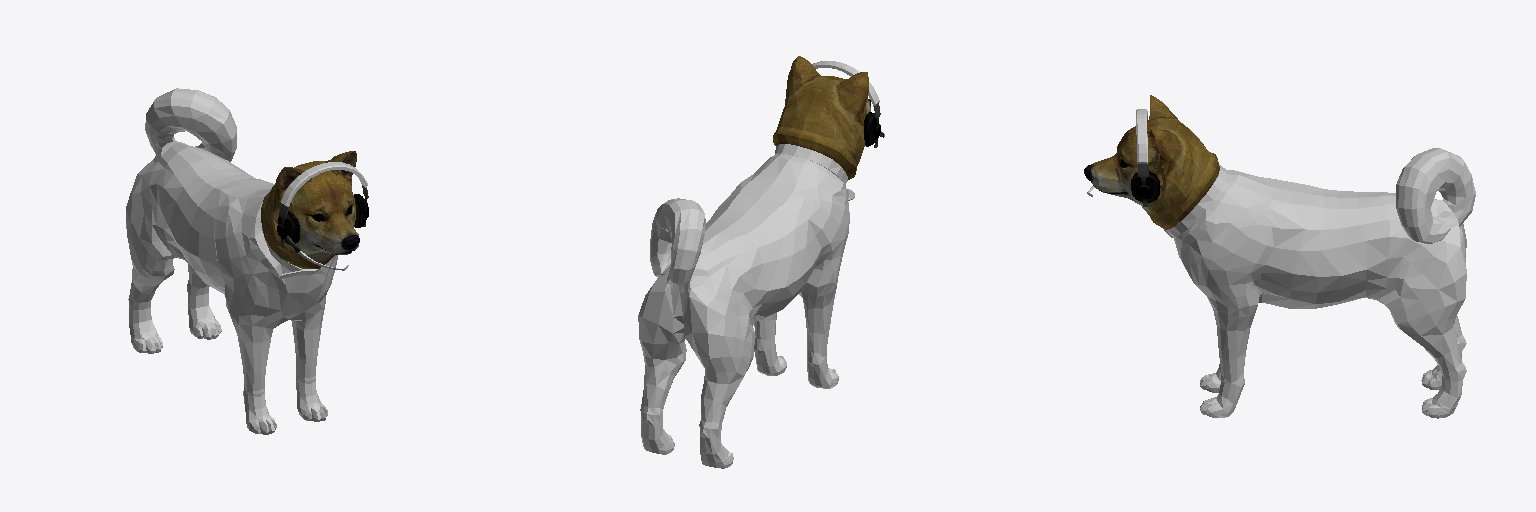
The picture shows the model from 3 angles: view 1: azimuth 30°, elevation 25°; view 2: azimuth 150°, elevation 25°; view 3: azimuth 270°, elevation 25°; orthographic projection.
Bounding box in the file's own units: 0.2771 × 0.756 × 0.9293.
2 materials, 1 textured.